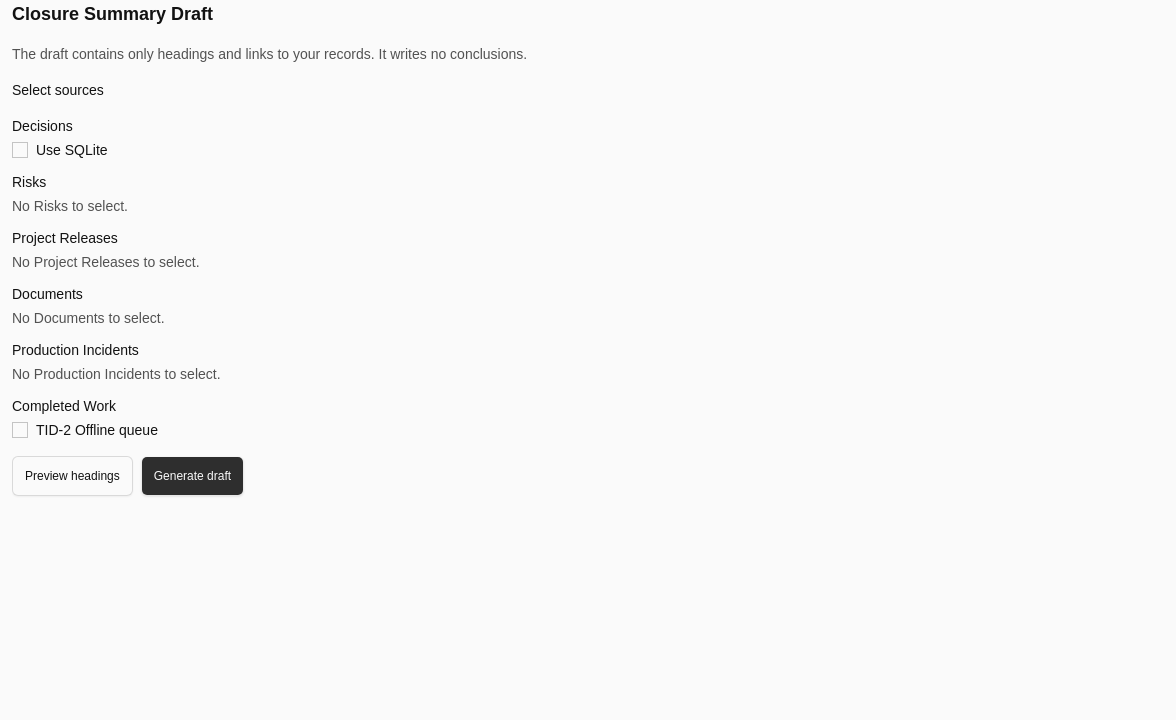
Save as Document writes once with the default title and shows the Document
What coordinates should you click on to do the following:
click the checkbox labelled "Use SQLite"
I would click on:
 (72, 150)
Its box is [36,140,108,160].
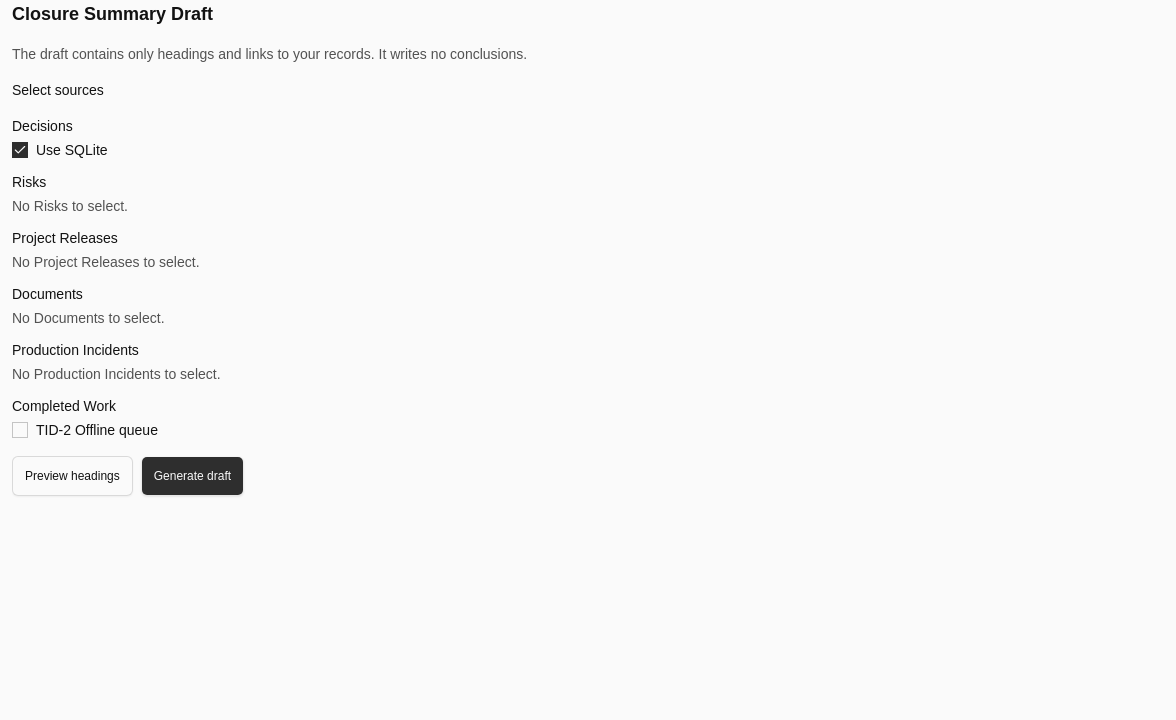
What coordinates should you click on to do the following:
click the button "Generate draft"
I would click on:
 (192, 476)
Its box is [141,456,244,496].
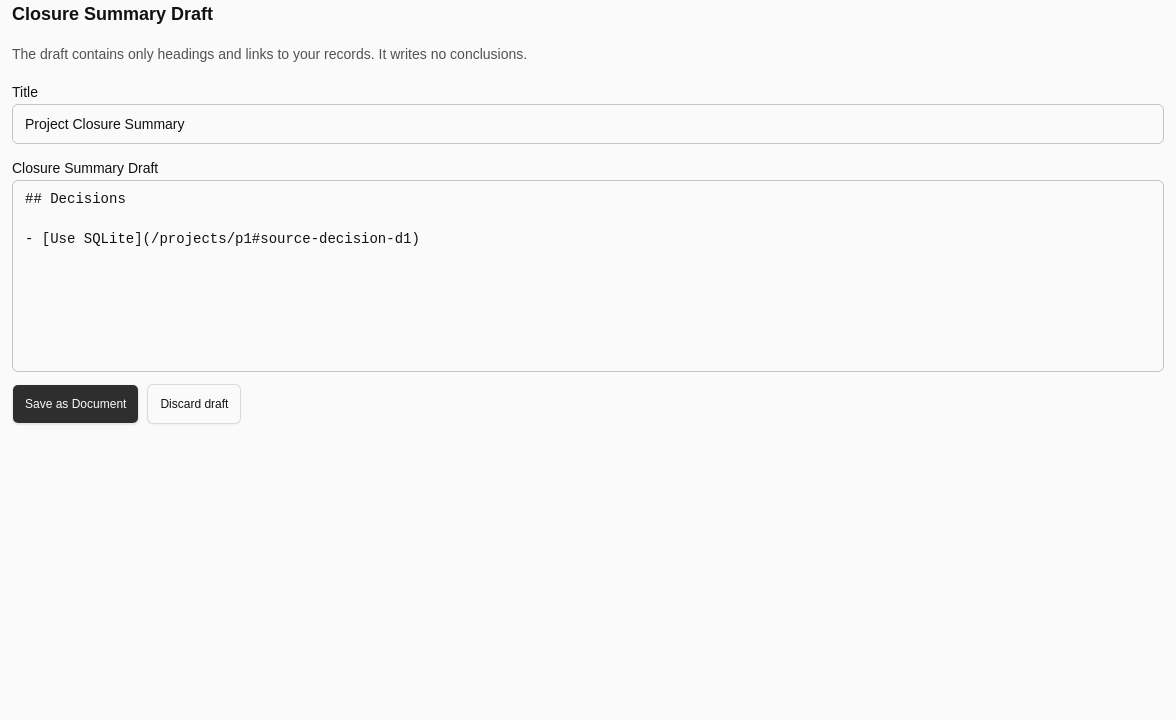
Check: the field labelled "Title" holds "Project Closure Summary", box [12,104,1164,144]
What coordinates should you click on to do the following:
click the button "Save as Document"
I would click on:
 (76, 404)
Its box is [12,384,139,424].
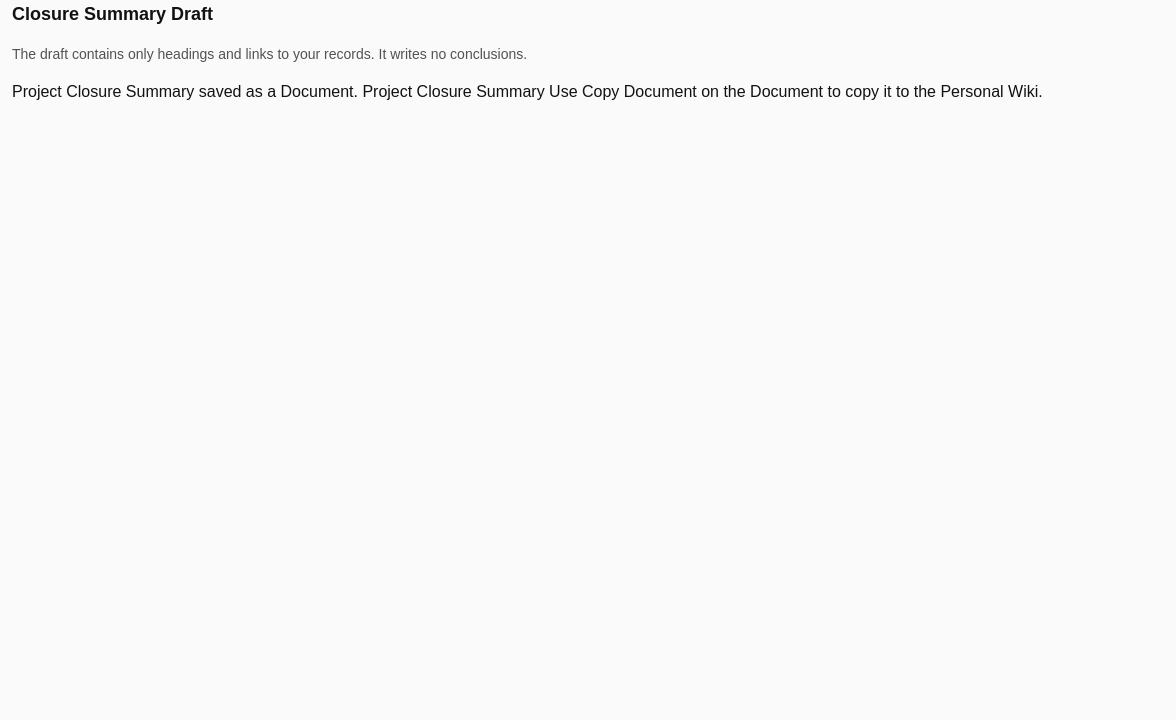
Check: the text "Project Closure Summary saved as a Document." is shown, box [12,80,1164,104]
